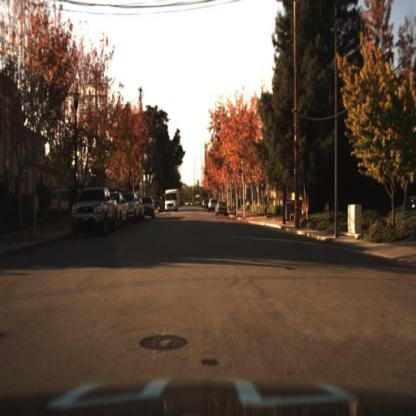car: (70, 187, 119, 238), (124, 191, 142, 225), (113, 190, 129, 226), (141, 193, 159, 219), (164, 188, 180, 215), (215, 198, 232, 220)
